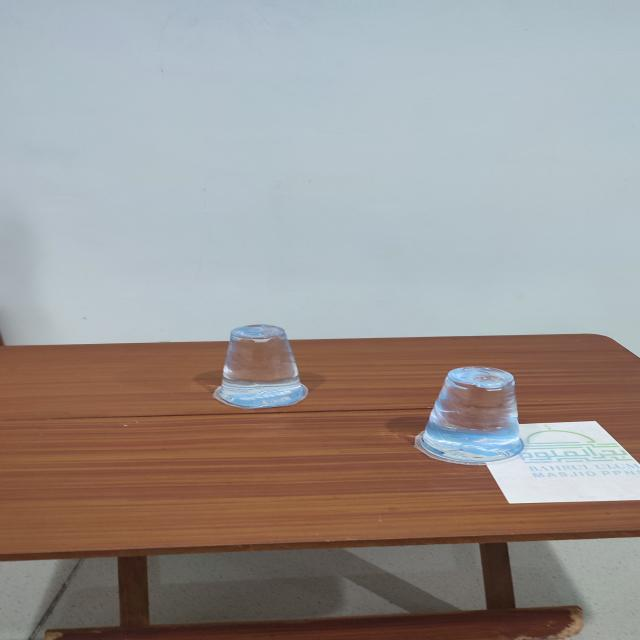air gelas: (411, 365, 533, 463), (200, 313, 319, 412)
